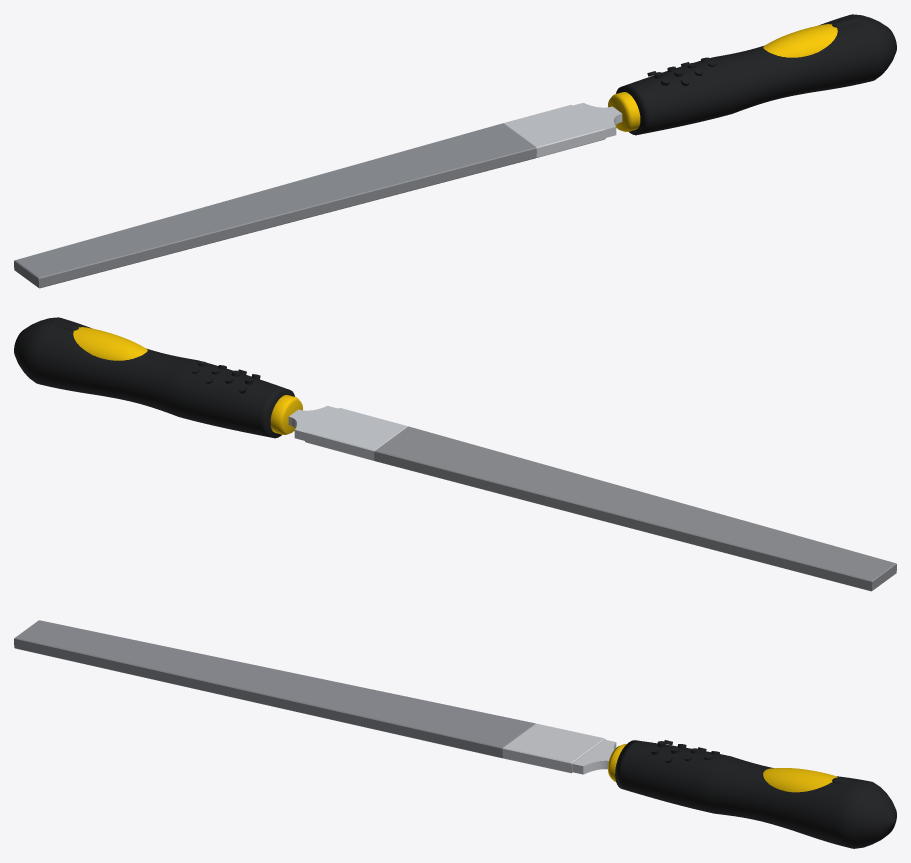
3 renders of one model, top to bottom at view 1: azimuth 30°, elevation 25°; view 2: azimuth 150°, elevation 25°; view 3: azimuth 330°, elevation 25°, orthographic.
Parts seen in each view (by area): view 1: blade_teeth, handle_body, blade_heel, handle_inlay, ferrule, tang; view 2: blade_teeth, handle_body, blade_heel, handle_inlay, ferrule, tang; view 3: blade_teeth, handle_body, blade_heel, handle_inlay, tang.
Boxes of the visible parts, <box> form: blade_teeth: <box>14,123,536,288</box>; handle_body: <box>616,14,896,135</box>; blade_heel: <box>503,104,605,157</box>; handle_inlay: <box>763,24,837,57</box>; ferrule: <box>608,92,640,131</box>; tang: <box>573,103,622,137</box>; blade_teeth: <box>374,426,896,591</box>; handle_body: <box>14,317,294,438</box>; blade_heel: <box>305,407,407,460</box>; handle_inlay: <box>73,327,147,360</box>; ferrule: <box>270,395,302,434</box>; tang: <box>288,406,337,440</box>; blade_teeth: <box>14,620,535,758</box>; handle_body: <box>615,740,896,848</box>; blade_heel: <box>502,723,605,773</box>; handle_inlay: <box>763,768,837,792</box>; tang: <box>572,739,616,774</box>.
Size of the model in its own units: 0.4413 by 0.03 by 0.0343.
